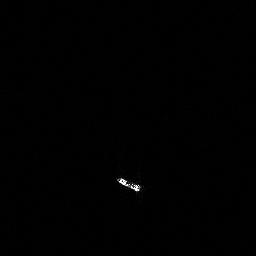ship: (112, 172, 145, 196)
